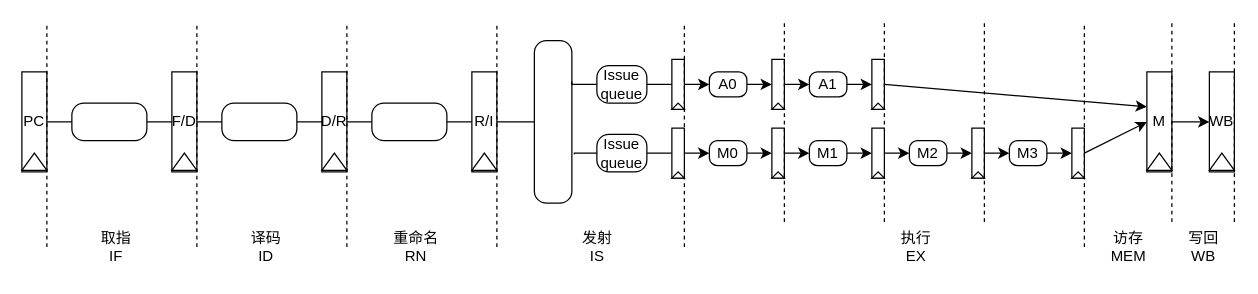
The diagram is 1258 pixels wide and 294 high, and some of its shapes have lost their labels. The centre of each missing label's shape, as x and y in pixels:
decode: [259,121]
I-cache: [109,121]
Issue logic: [552,121]
RAT: [409,121]
